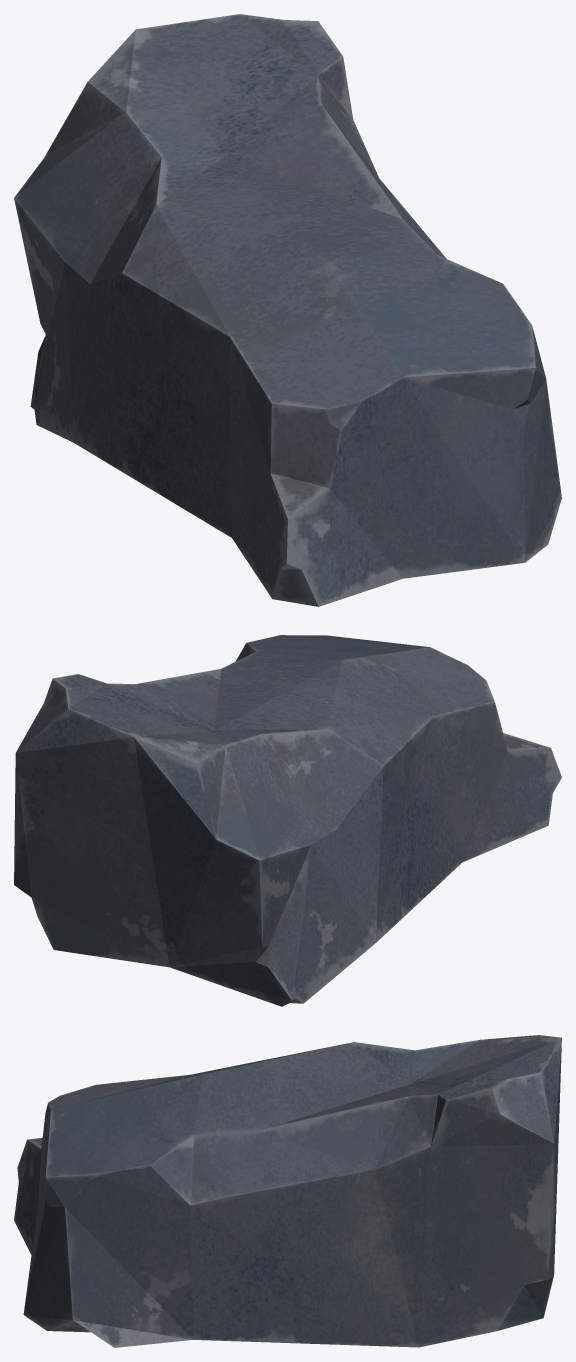
File: stylized_rock_70.fbx
3 renders of one model, top to bottom at view 1: azimuth 30°, elevation 25°; view 2: azimuth 150°, elevation 25°; view 3: azimuth 270°, elevation 25°, orthographic. The views are drawn at different scales.
Parts seen in each view (by area): view 1: stylized_rock_70; view 2: stylized_rock_70; view 3: stylized_rock_70.
Part boxes in pixels (bbox=[...]): stylized_rock_70: bbox=[14, 14, 561, 606]; stylized_rock_70: bbox=[14, 635, 561, 1006]; stylized_rock_70: bbox=[14, 1035, 561, 1347].
Size of the model in its own units: 226 by 210 by 388.
